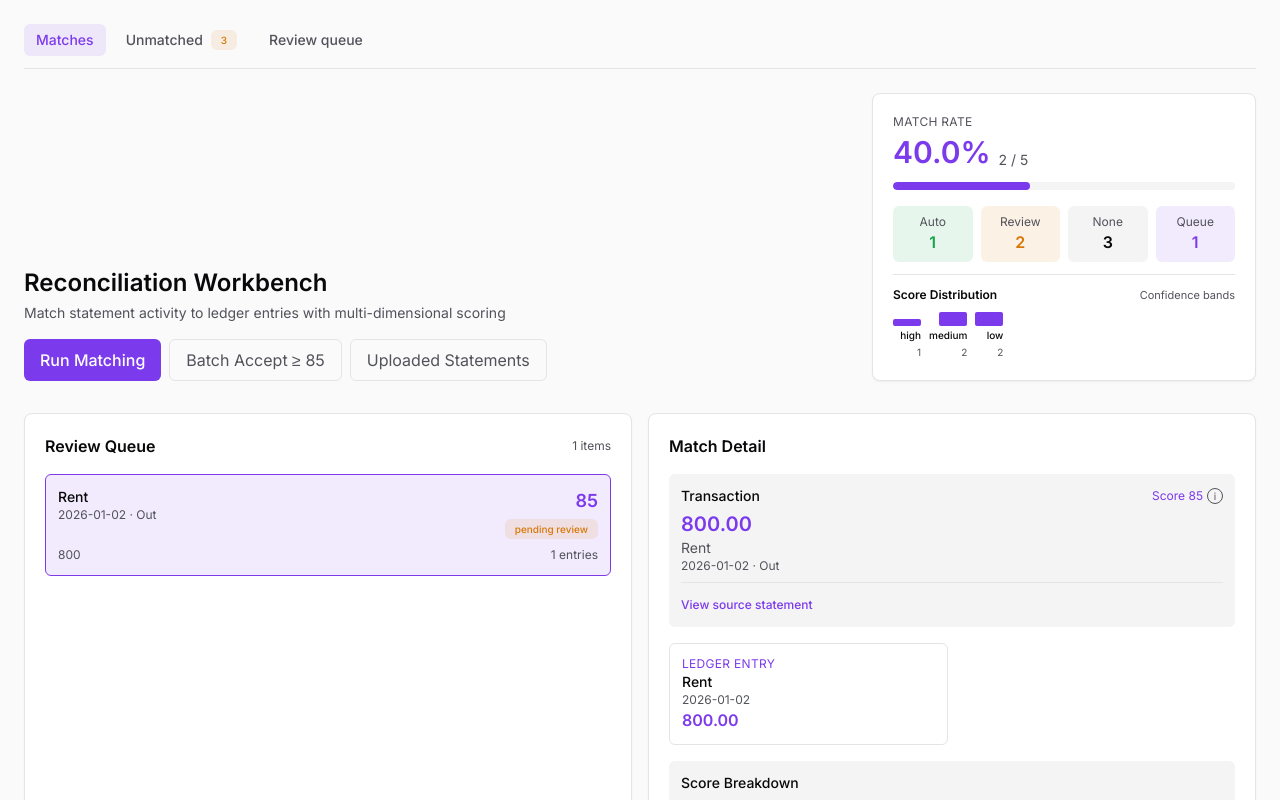
Test case: ReconciliationWorkbench › test_AC8_13_48 refreshes an existing selection and clears it when the queue becomes empty
The width and height of the screenshot is (1280, 800).
Expected: the text "800.00" below "Transaction" is shown, [681,512,752,536]
What coordinates should you click on to do the following:
click the button "Run Matching"
I would click on:
 (93, 360)
Its box is [24,338,161,380].
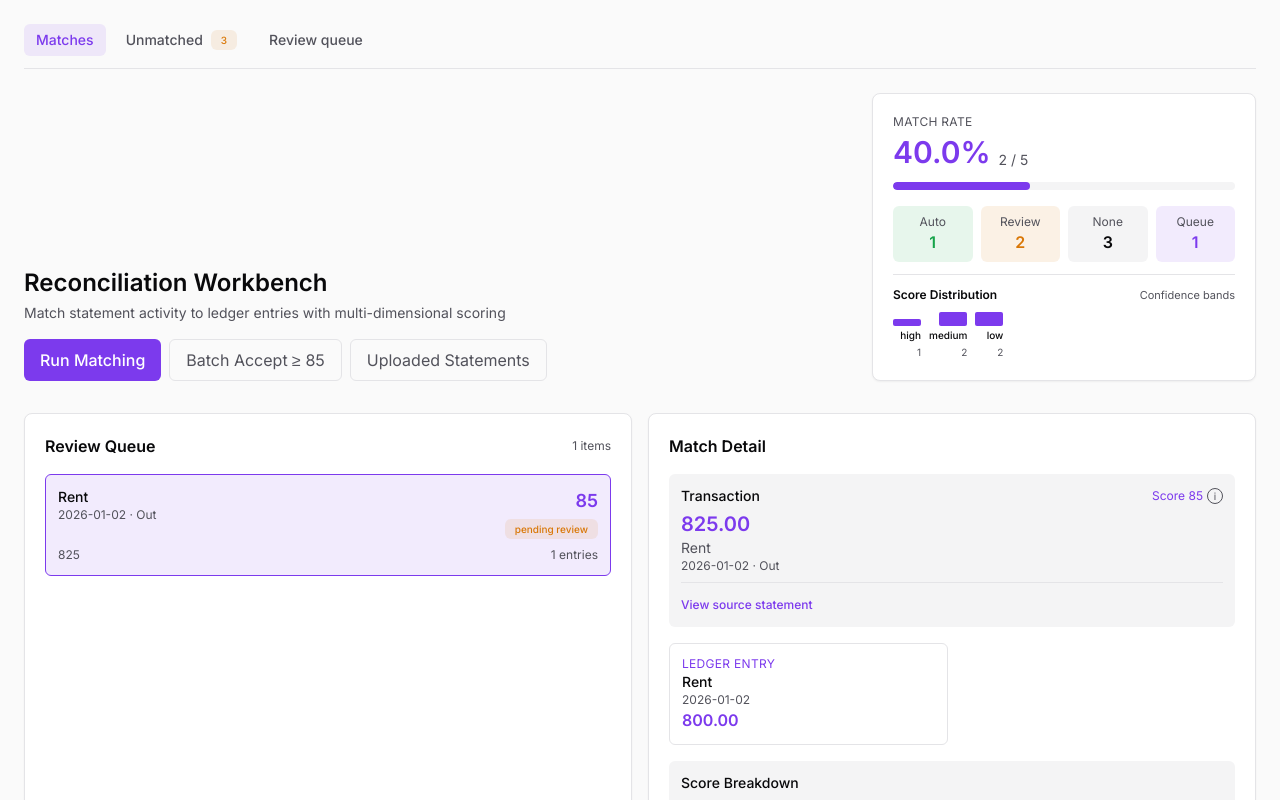
Result: the text "825.00" is shown at [681,512,750,536]
What coordinates should you click on to do the following:
click the button "Run Matching"
I would click on:
 (93, 360)
Its box is [24,338,161,380].
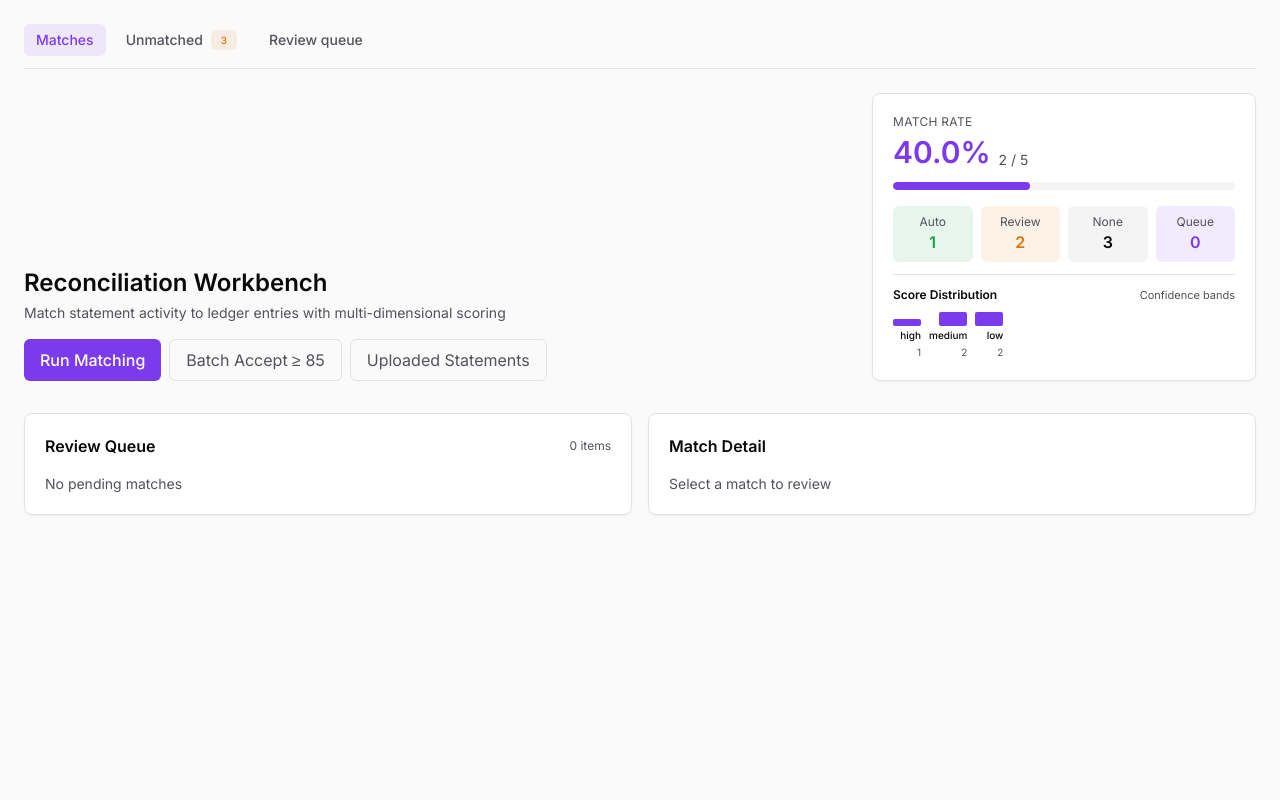
Result: the text "No pending matches" is shown at [45,474,182,492]
Result: the text "Select a match to review" is shown at [669,474,831,492]
